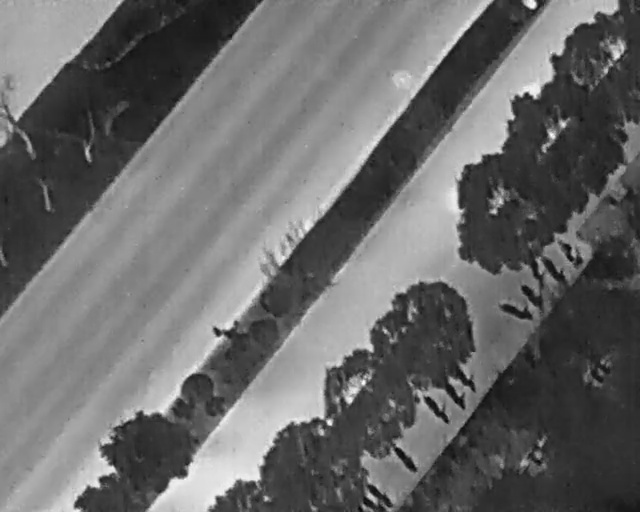Bicycle: (381, 431, 424, 479), (417, 386, 456, 429), (551, 232, 589, 273), (537, 249, 575, 290), (495, 294, 539, 327), (439, 373, 472, 413), (449, 362, 485, 396), (515, 277, 549, 312), (362, 478, 399, 510), (360, 496, 386, 511)
